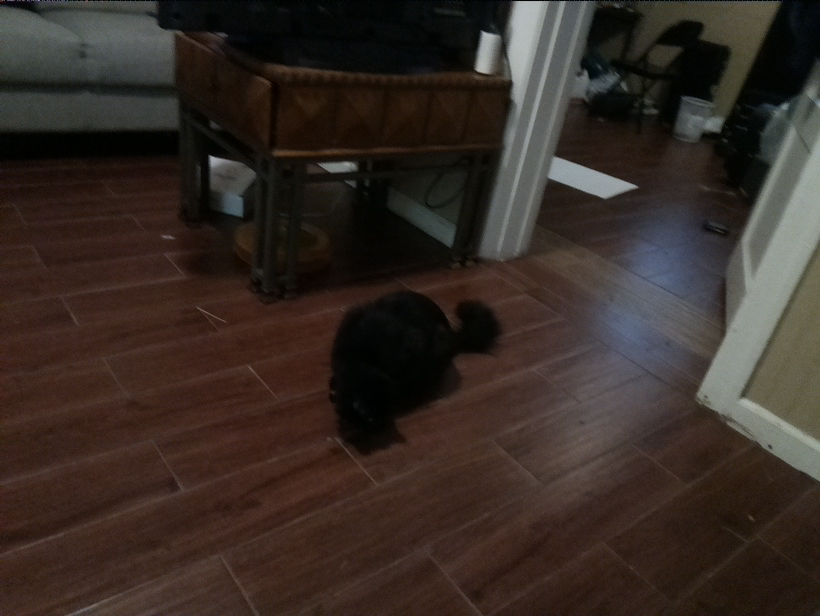cat: (295, 275, 528, 456)
